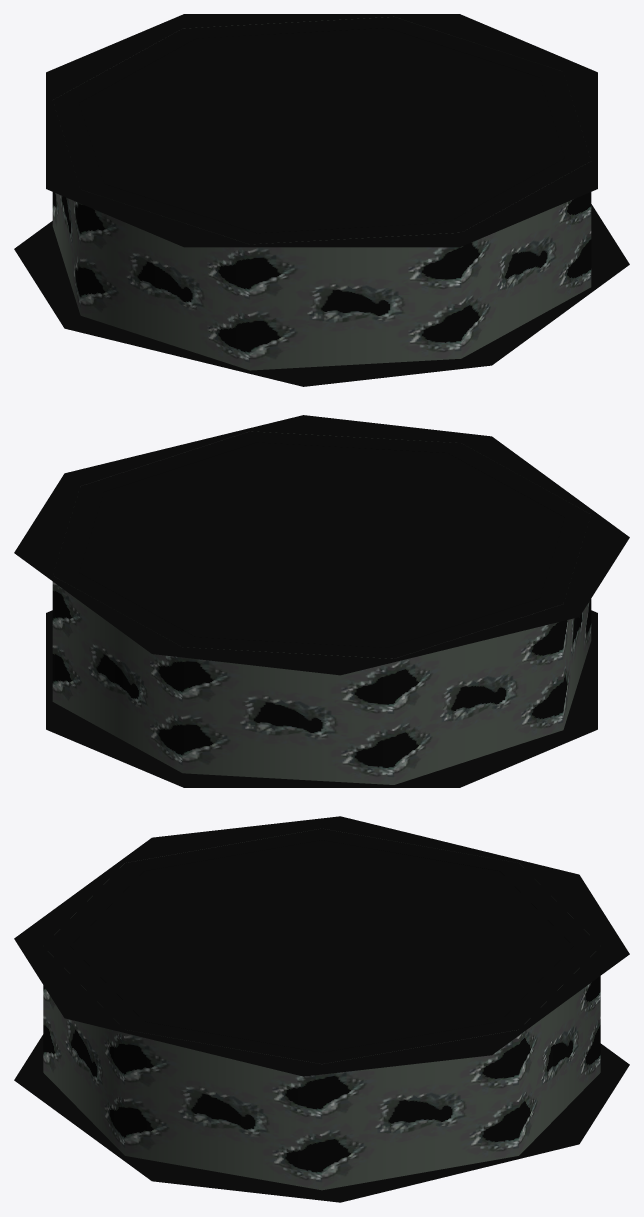
3 views of the same model, one above another, from view 1: azimuth 30°, elevation 25°; view 2: azimuth 150°, elevation 25°; view 3: azimuth 270°, elevation 25° (orthographic).
Visible parts, largest first — view 1: model-SKP--BG_Front, model-SKP--BG_Back; view 2: model-SKP--BG_Front, model-SKP--BG_Back; view 3: model-SKP--BG_Front, model-SKP--BG_Back.
Boxes of the visible parts, x1=… form: model-SKP--BG_Front: x1=14, y1=14, x2=629, y2=386; model-SKP--BG_Back: x1=52, y1=16, x2=591, y2=370; model-SKP--BG_Front: x1=14, y1=415, x2=629, y2=787; model-SKP--BG_Back: x1=52, y1=431, x2=591, y2=784; model-SKP--BG_Front: x1=14, y1=816, x2=629, y2=1202; model-SKP--BG_Back: x1=43, y1=828, x2=600, y2=1190.
Bounding box in the file's own units: 220962 × 50000 × 220962.
Materials: 27 (27 with a texture image).
